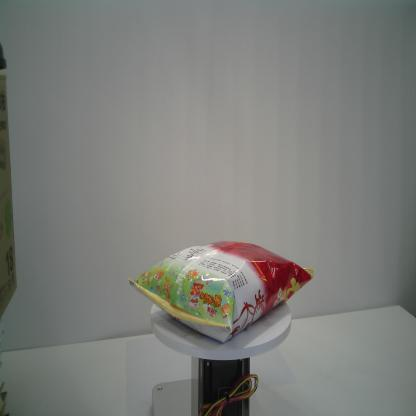Puffed Food: (127, 240, 313, 343)
